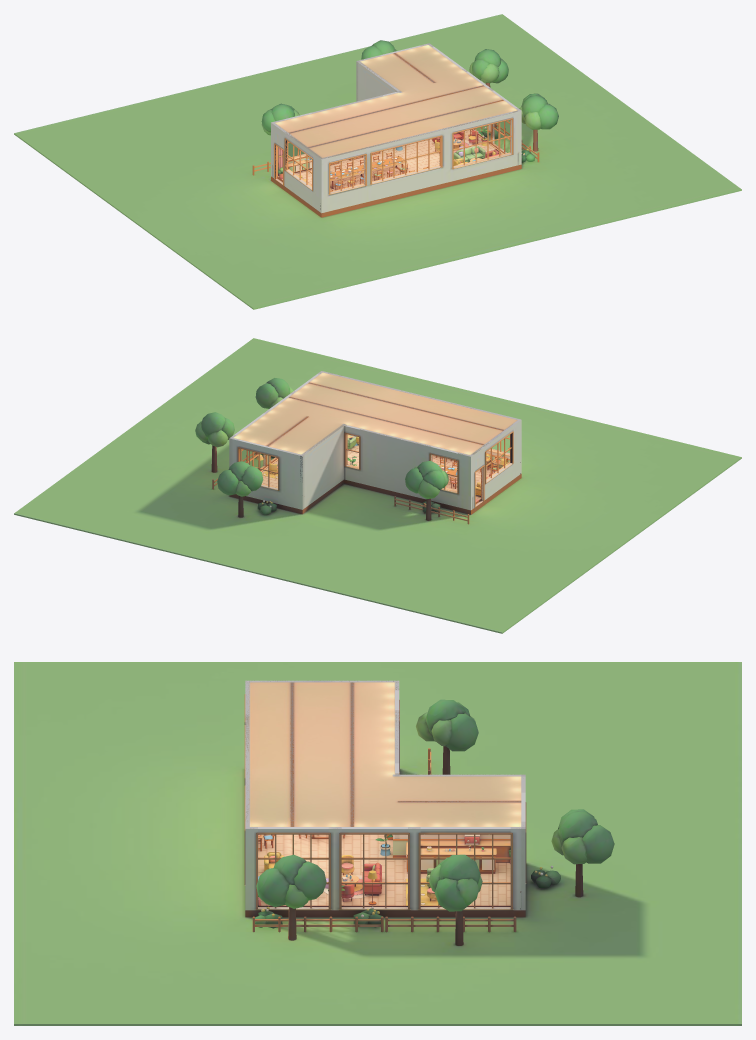
The model's file is study_room_v2.glb.
3 views of the same model, one above another, from view 1: azimuth 30°, elevation 25°; view 2: azimuth 150°, elevation 25°; view 3: azimuth 270°, elevation 25° (orthographic). The views are drawn at different scales.
Visible parts, largest first — view 1: room_outdoors, room_shell, room_props; view 2: room_outdoors, room_shell, room_props; view 3: room_outdoors, room_shell, room_props.
Boxes of the visible parts, x1,y1,x2,y2 form: room_outdoors: [14, 14, 741, 309]; room_shell: [271, 43, 521, 217]; room_props: [278, 129, 509, 191]; room_outdoors: [14, 338, 741, 633]; room_shell: [229, 371, 521, 514]; room_props: [240, 434, 509, 496]; room_outdoors: [14, 662, 741, 1025]; room_shell: [244, 680, 526, 917]; room_props: [258, 834, 510, 905].
Size of the model in its own units: 40 by 4.66 by 34.
Materials: 2 (2 with a texture image).
